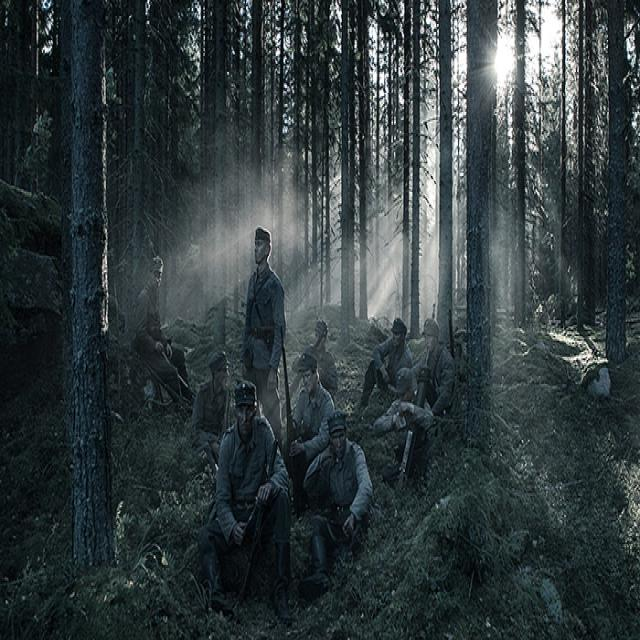Forest: (0, 0, 640, 640)
Militant: (216, 367, 299, 604), (295, 387, 383, 579), (113, 244, 202, 432), (230, 221, 305, 429), (366, 296, 430, 458), (414, 303, 470, 459), (286, 286, 342, 442)
